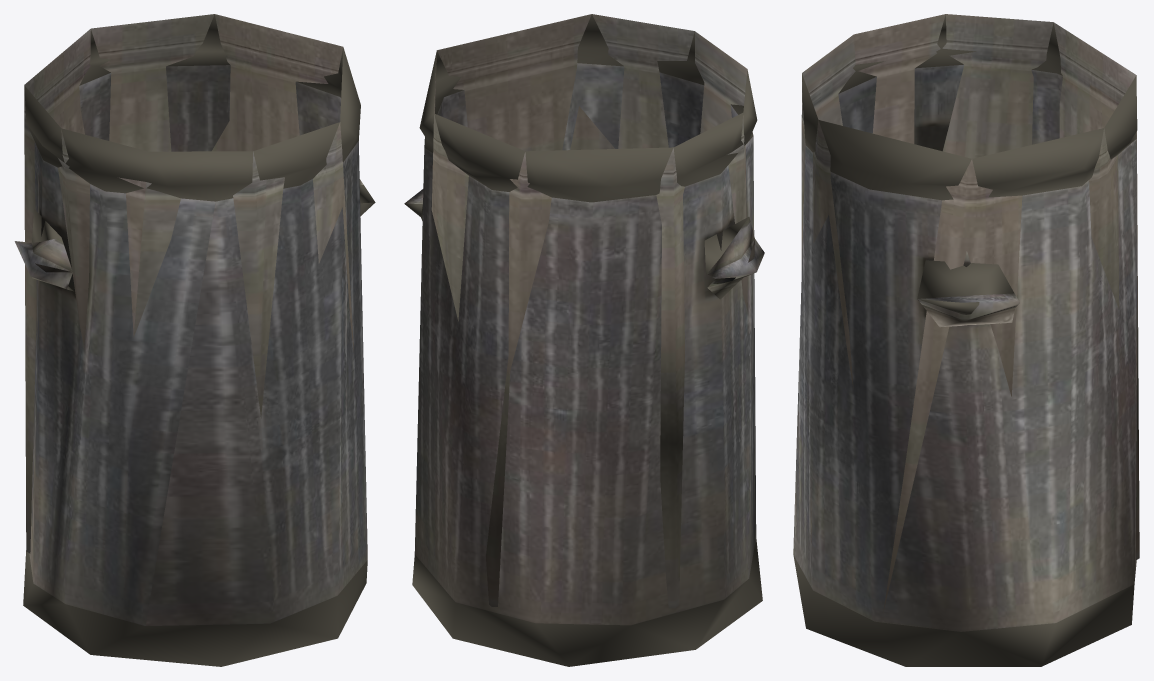
File: metal_trash_can_1k.glb
3 renders of one model, left to right at view 1: azimuth 30°, elevation 25°; view 2: azimuth 150°, elevation 25°; view 3: azimuth 270°, elevation 25°, orthographic.
Visible parts, largest first — view 1: metal_trash_can; view 2: metal_trash_can; view 3: metal_trash_can.
Part boxes in pixels (<box>): metal_trash_can: <box>14,14,375,666</box>; metal_trash_can: <box>404,14,764,666</box>; metal_trash_can: <box>793,14,1139,666</box>.
Size of the model in its own units: 0.6095 by 0.9062 by 0.5546.
1 material, 1 textured.
